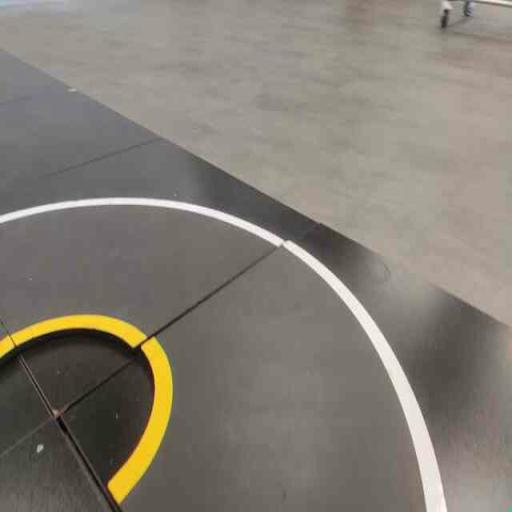left: (62, 228, 487, 511)
